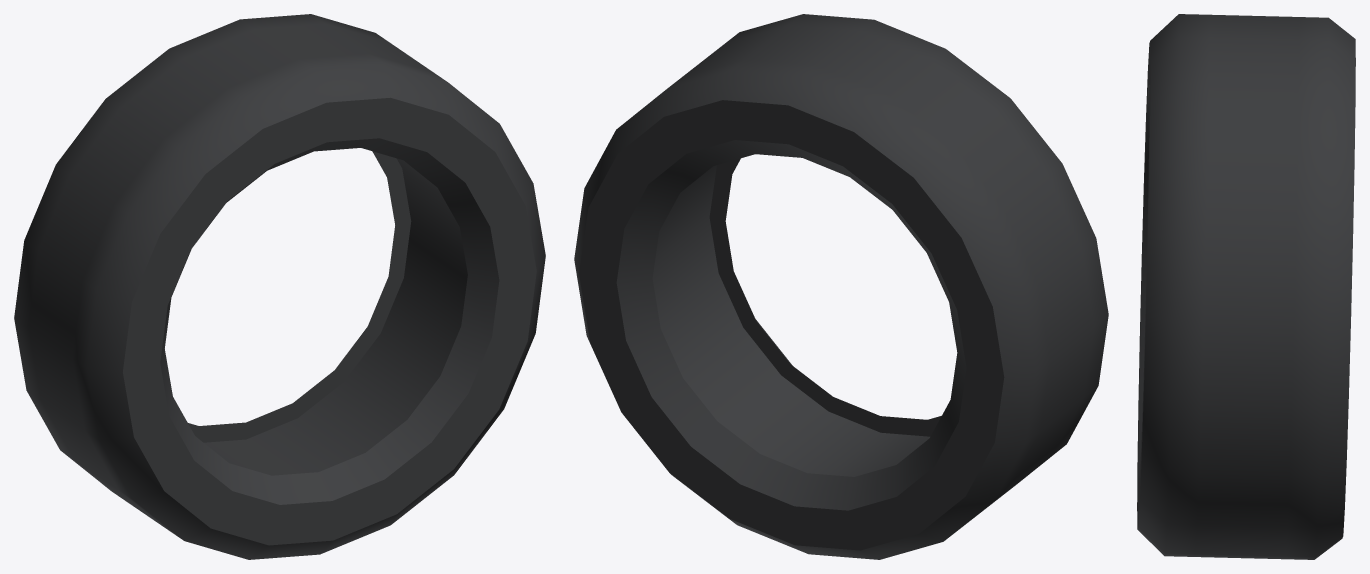
Rendered from M_Prop_Tire_Alexander_Michael_Schmudlach_M.fbx.
3 views of the same model, side by side, from view 1: azimuth 30°, elevation 25°; view 2: azimuth 150°, elevation 25°; view 3: azimuth 270°, elevation 25° (orthographic). The views are drawn at different scales.
Visible parts, largest first — view 1: prop_tire_medium; view 2: prop_tire_medium; view 3: prop_tire_medium.
Boxes of the visible parts, <box> form: prop_tire_medium: <box>14,14,545,559</box>; prop_tire_medium: <box>574,14,1108,559</box>; prop_tire_medium: <box>1137,14,1355,559</box>.
Size of the model in its own units: 68.83 by 69.33 by 27.55.
